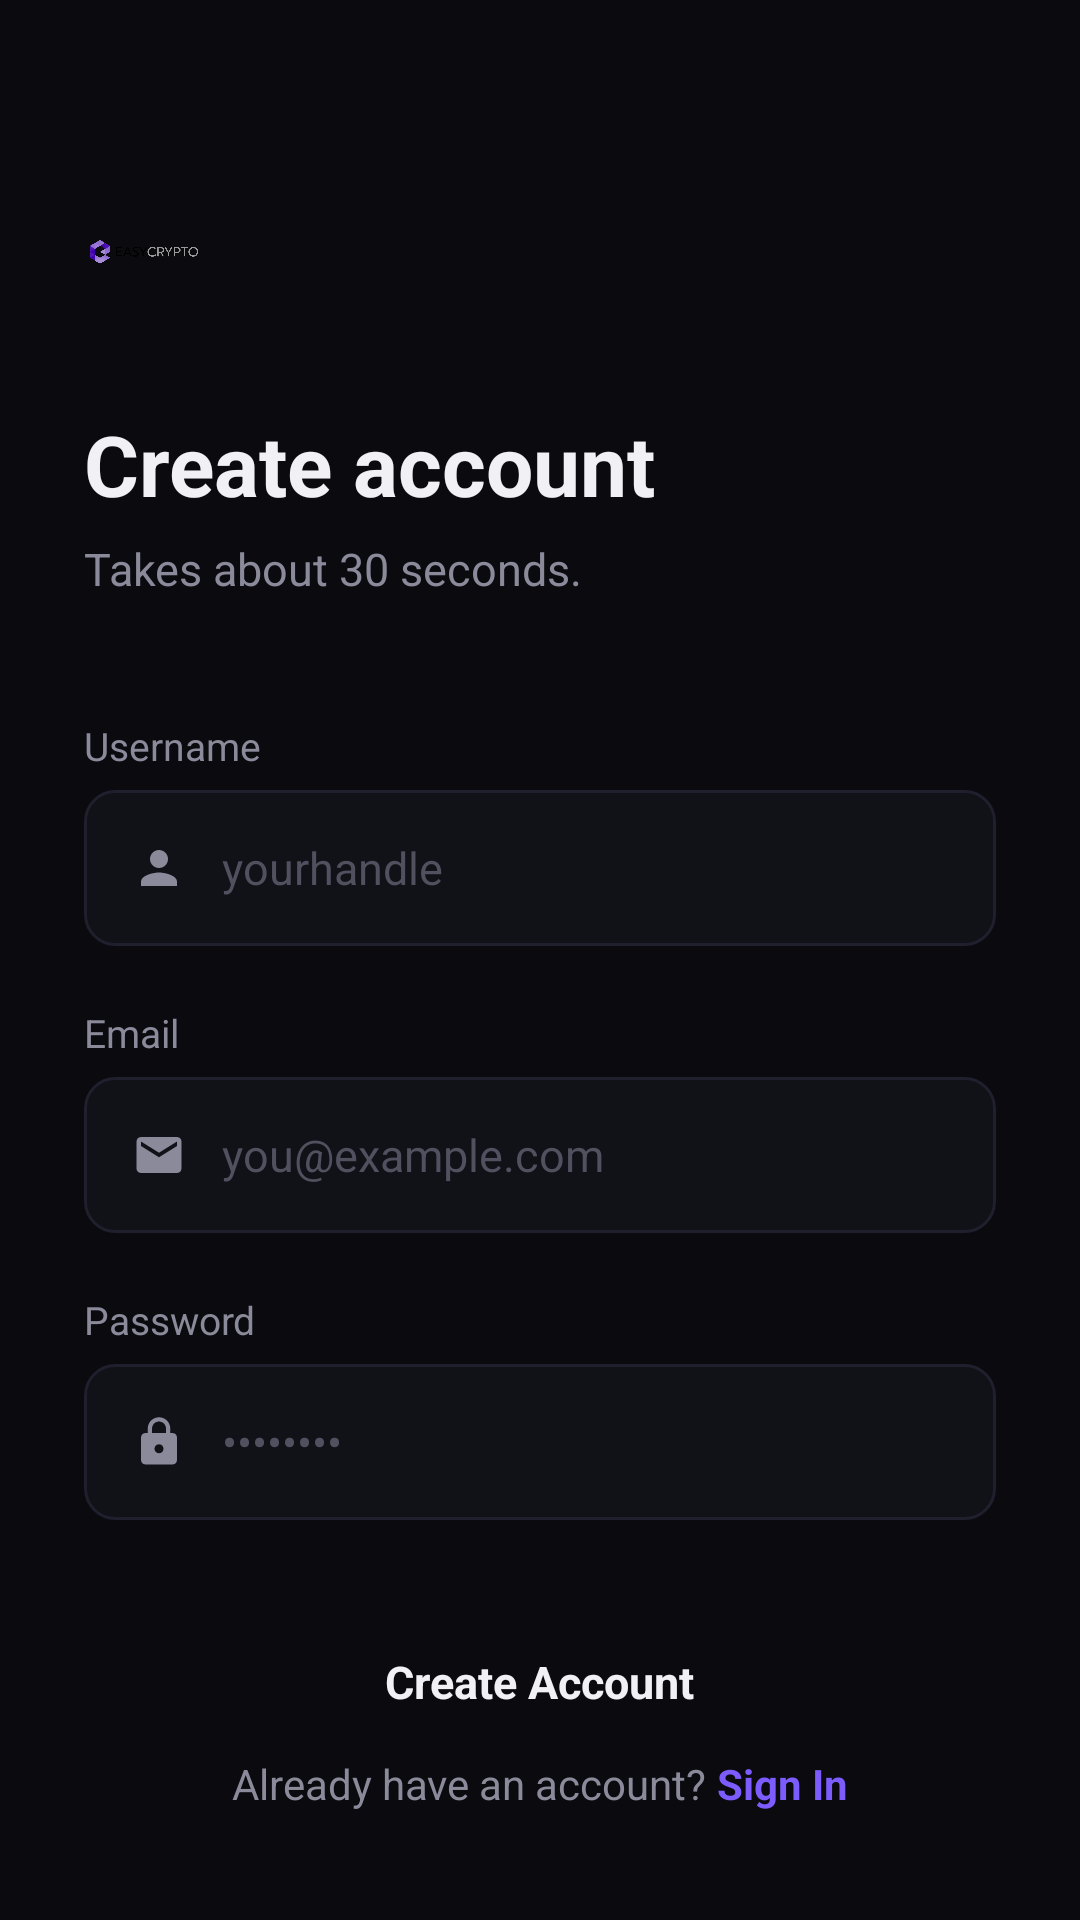

Where to tap for icons on this 1080*1920 app screen, as (x,y):
lock: (159,1441)
